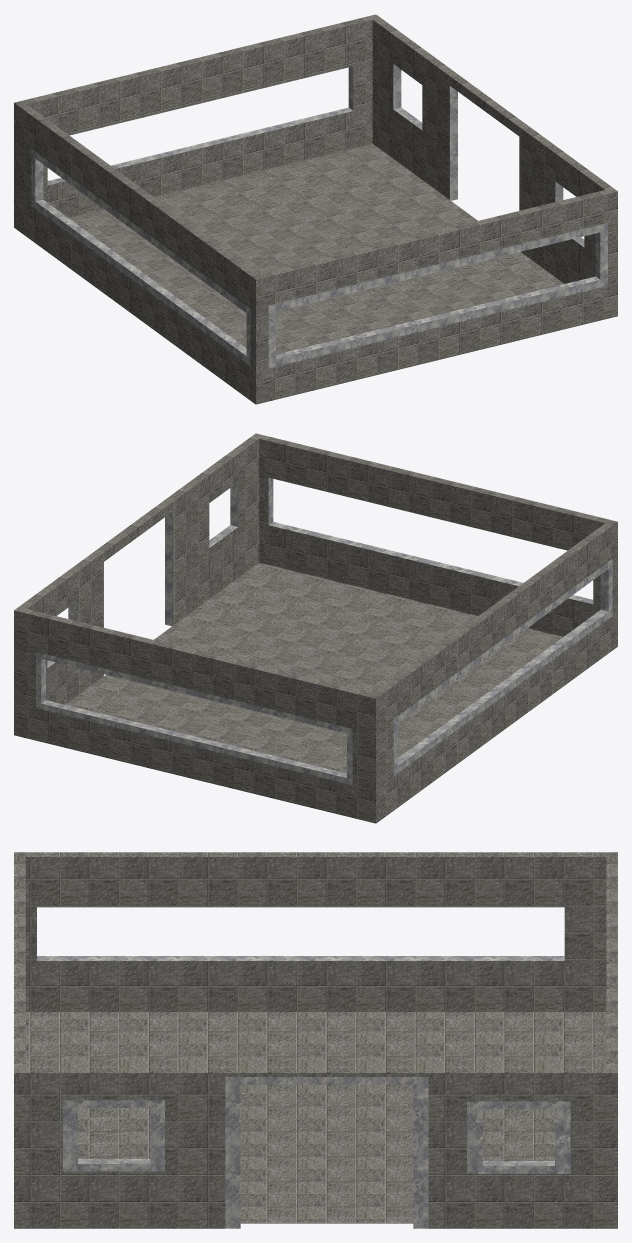
File: space fort.dae
3 views of the same model, one above another, from view 1: azimuth 30°, elevation 25°; view 2: azimuth 150°, elevation 25°; view 3: azimuth 270°, elevation 25° (orthographic). The views are drawn at different scales.
Parts seen in each view (by area): view 1: SketchUp, SketchUp_013, SketchUp_002, SketchUp_005, SketchUp_006, SketchUp_011, SketchUp_010, SketchUp_012, SketchUp_004, SketchUp_008; view 2: SketchUp, SketchUp_013, SketchUp_002, SketchUp_007, SketchUp_006, SketchUp_011, SketchUp_012, SketchUp_010, SketchUp_004, SketchUp_009; view 3: SketchUp_013, SketchUp_002, SketchUp, SketchUp_004, SketchUp_001, SketchUp_003, SketchUp_011.
Boxes of the visible parts, x1,y1,x2,y2 form: SketchUp: (14,14,617,404); SketchUp_013: (69,143,563,354); SketchUp_002: (27,19,604,283); SketchUp_005: (268,223,607,368); SketchUp_006: (31,149,250,365); SketchUp_011: (35,159,246,355); SketchUp_010: (276,232,600,358); SketchUp_012: (47,66,353,185); SketchUp_004: (450,86,457,200); SketchUp_008: (393,64,422,129); SketchUp: (14,433,617,823); SketchUp_013: (65,562,562,773); SketchUp_002: (27,438,604,704); SketchUp_007: (36,652,352,784); SketchUp_006: (393,559,612,775); SketchUp_011: (397,569,608,765); SketchUp_012: (41,659,346,777); SketchUp_010: (268,478,593,604); SketchUp_004: (165,511,172,626); SketchUp_009: (209,482,238,547); SketchUp_013: (25,1012,606,1222); SketchUp_002: (25,857,606,1011); SketchUp: (14,852,617,1228); SketchUp_004: (225,1077,428,1228); SketchUp_001: (467,1101,570,1173); SketchUp_003: (63,1100,164,1171); SketchUp_011: (37,956,564,960).
Bounding box in the file's own units: 8.06 × 9.32 × 2.66.
3 materials, 2 textured.
